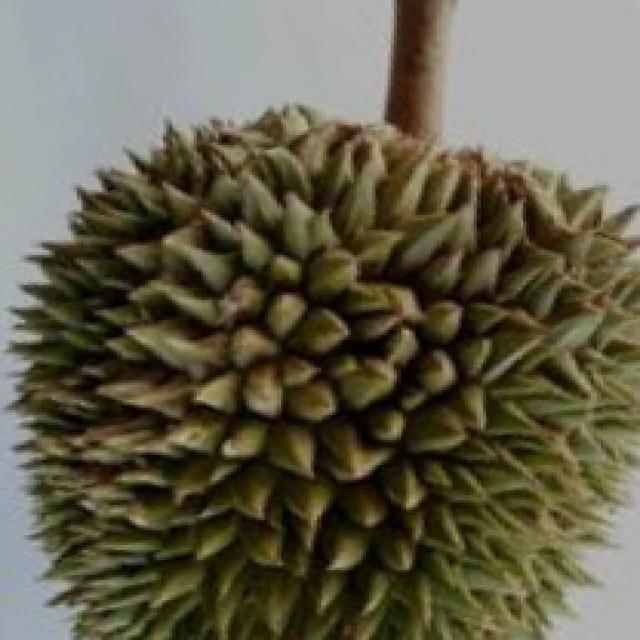fruit: (0, 265, 360, 640)
